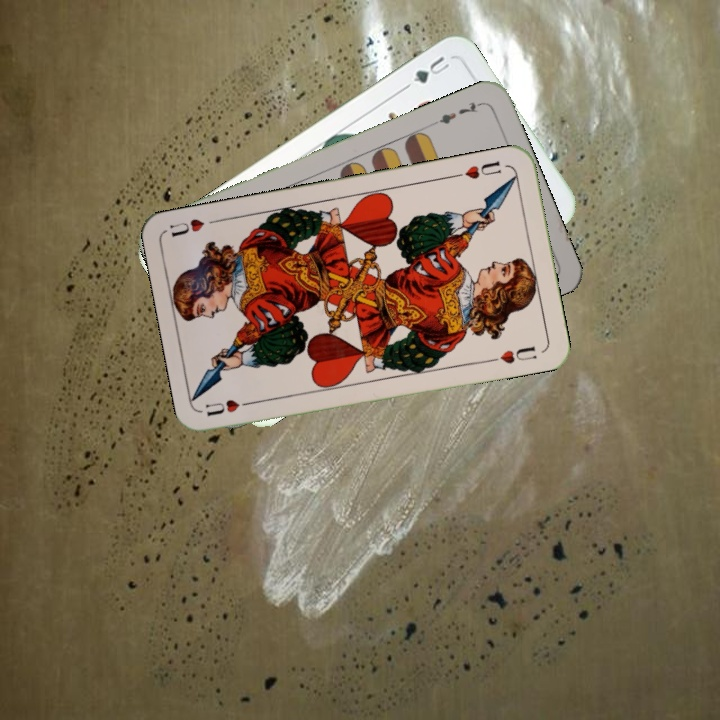E7: (429, 98, 485, 128)
GU: (409, 52, 452, 86)
HU: (201, 395, 259, 419), (451, 157, 504, 182)
